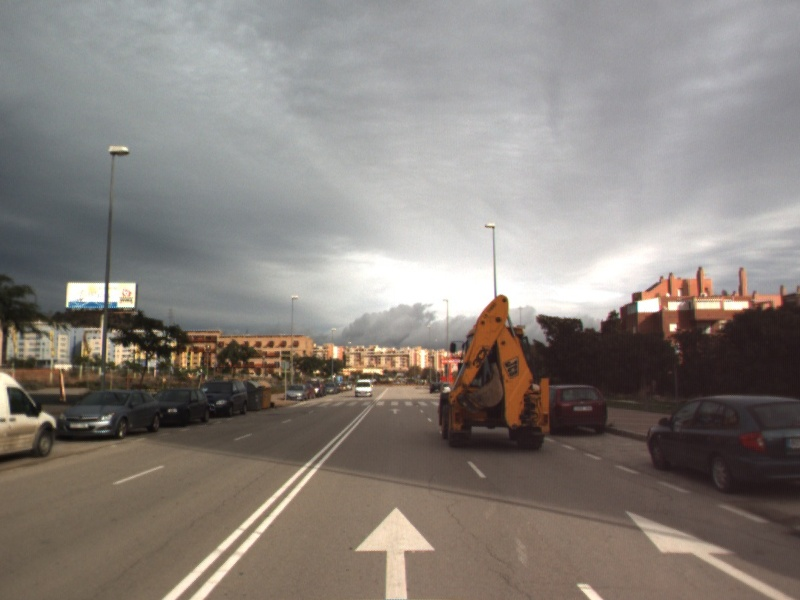STRAIGHT: (624, 508, 798, 600), (353, 505, 438, 600), (387, 406, 403, 415)
